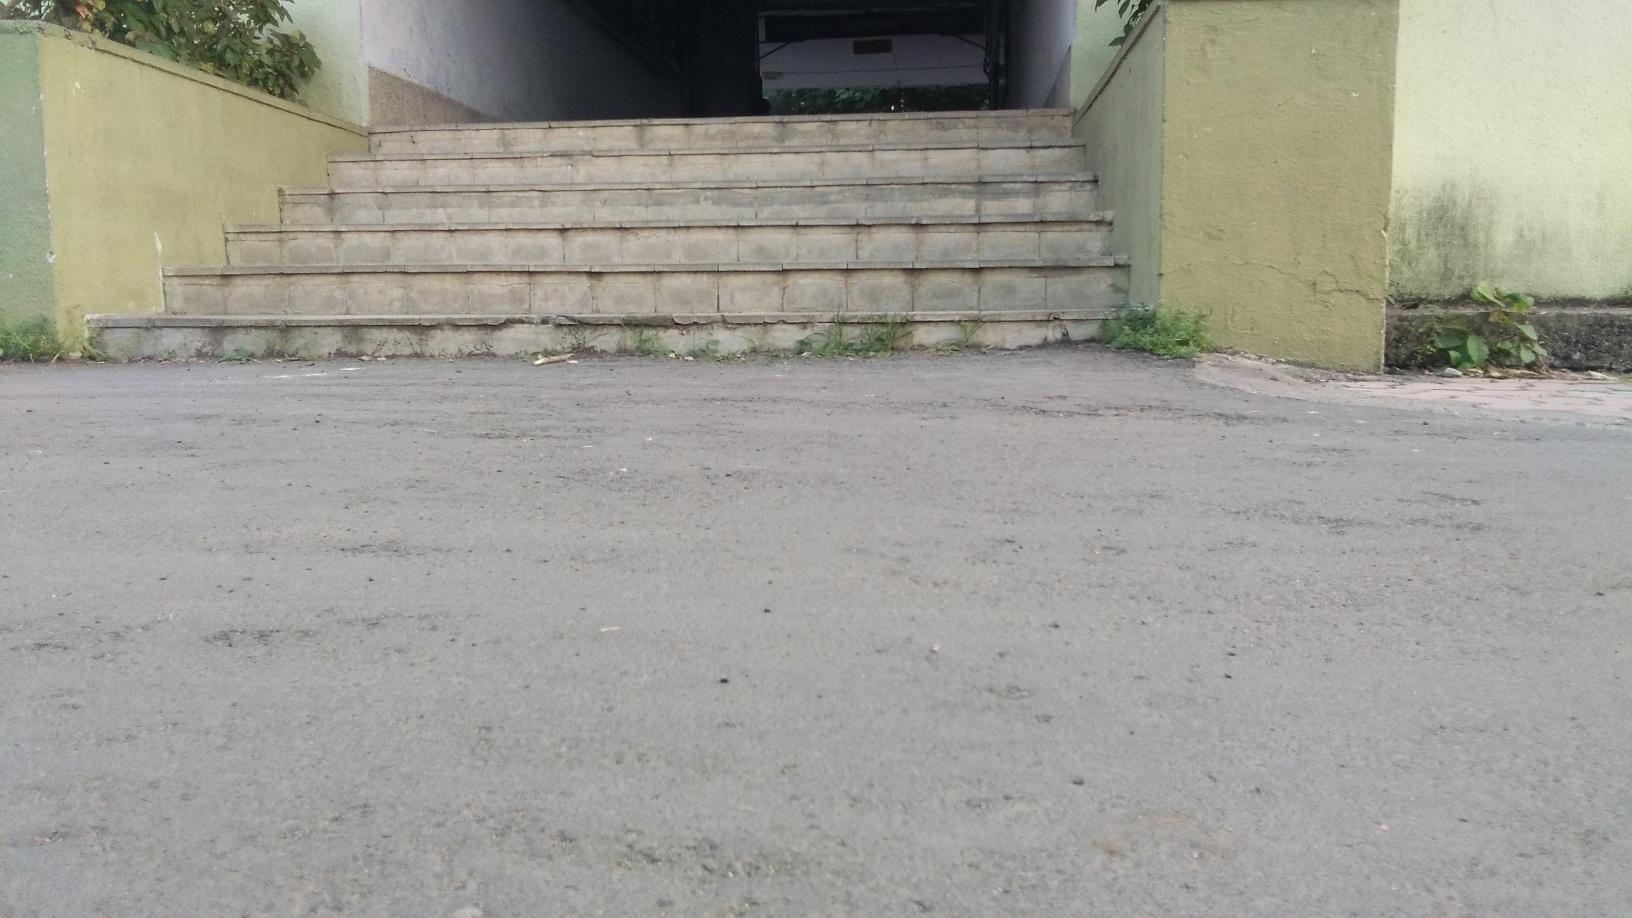stairs_up: (152, 93, 1096, 419)
